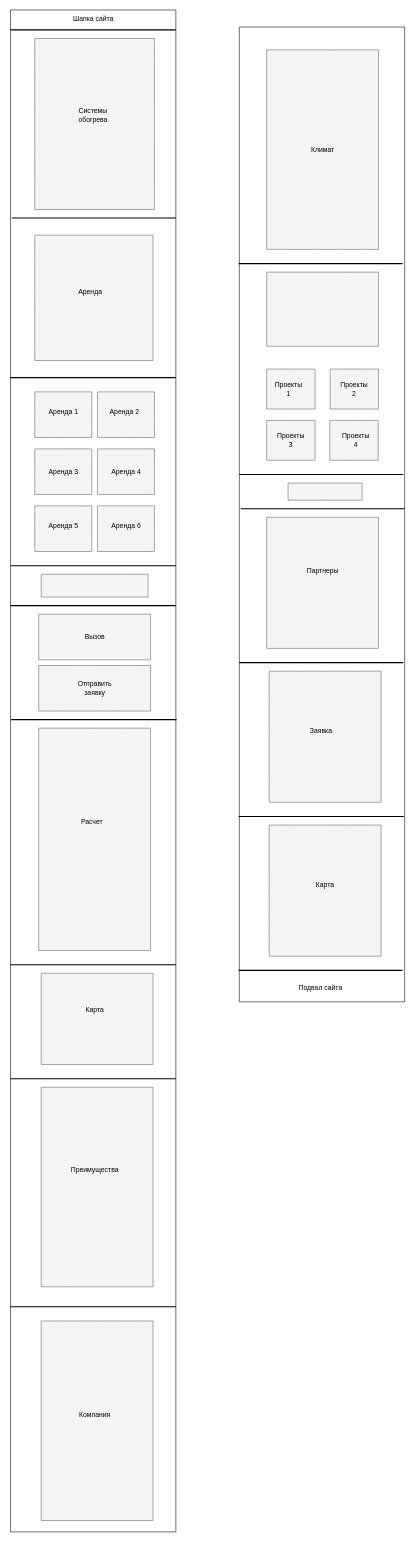
This 415x1542 diagram has some shape labels left out. Here are the shapes that lost their labels. From the top down, the box of each, then its label:
(266, 272, 379, 346): Проекты
(288, 483, 362, 500): Посмотреть объекты
(41, 574, 148, 597): Каталог
